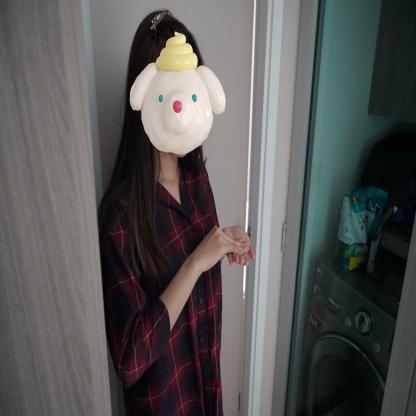Love: (184, 223, 257, 274)
